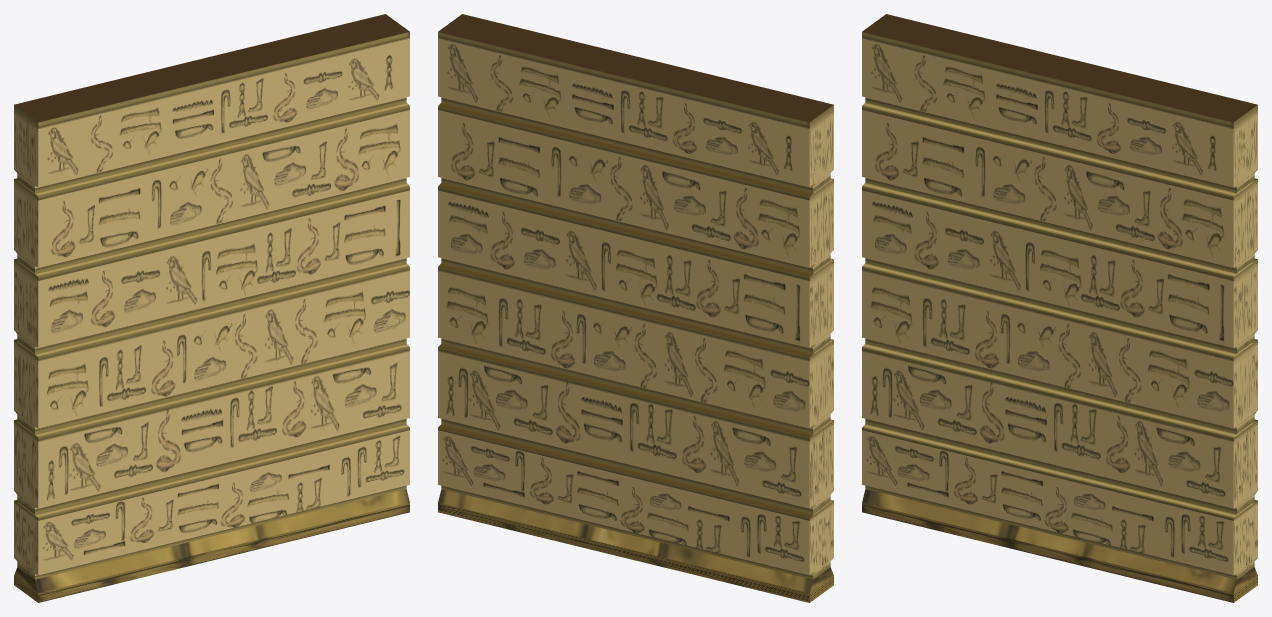
The model's file is InnerWall1.FBX.
3 views of the same model, side by side, from view 1: azimuth 30°, elevation 25°; view 2: azimuth 150°, elevation 25°; view 3: azimuth 330°, elevation 25° (orthographic).
Parts seen in each view (by area): view 1: Straight Wall; view 2: Straight Wall; view 3: Straight Wall.
Boxes of the visible parts, x1,y1,x2,y2 form: Straight Wall: (14, 14, 409, 602); Straight Wall: (438, 14, 833, 602); Straight Wall: (862, 14, 1257, 602).
Bounding box in the file's own units: 78.76 × 97.29 × 8.9.
